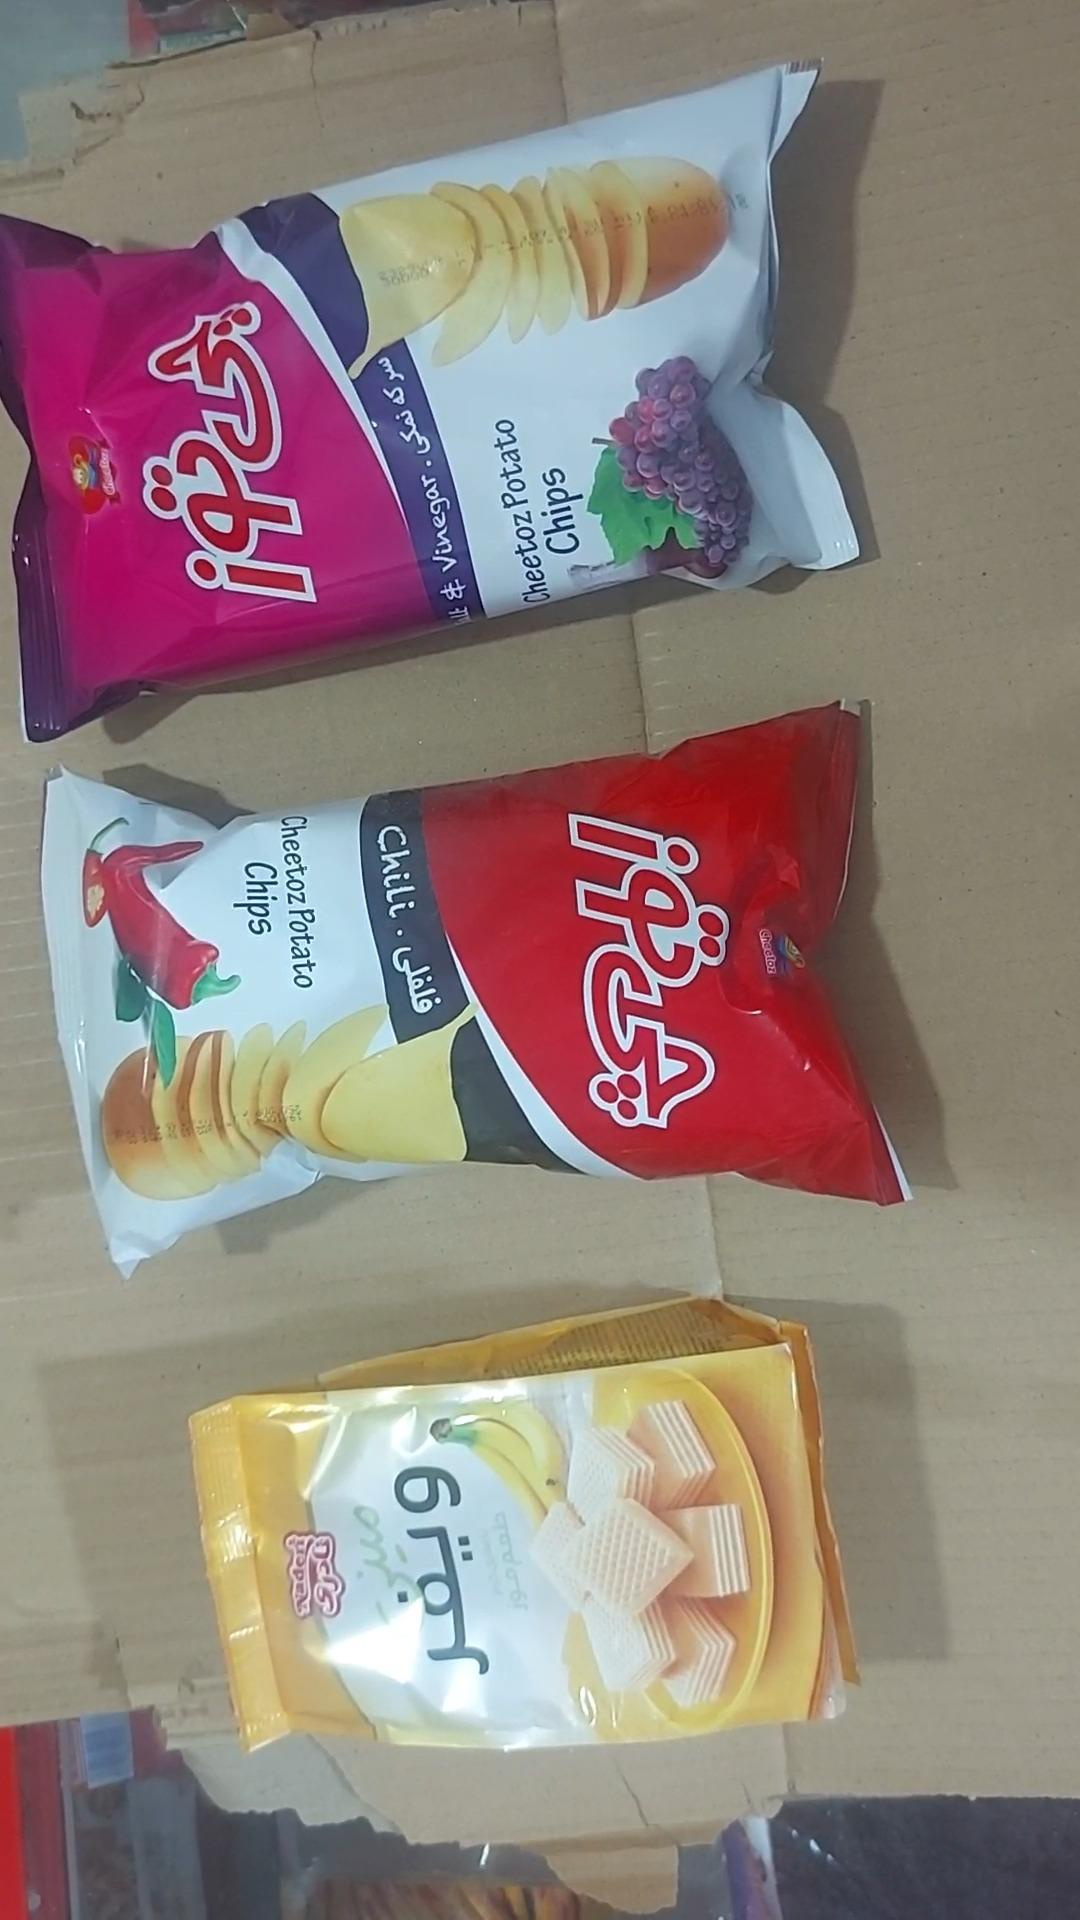Cheetoz chili chips: (42, 704, 909, 1283)
Cheetoz vinegar chips: (0, 63, 860, 746)
Naderi mini wafer: (186, 1298, 862, 1758)
